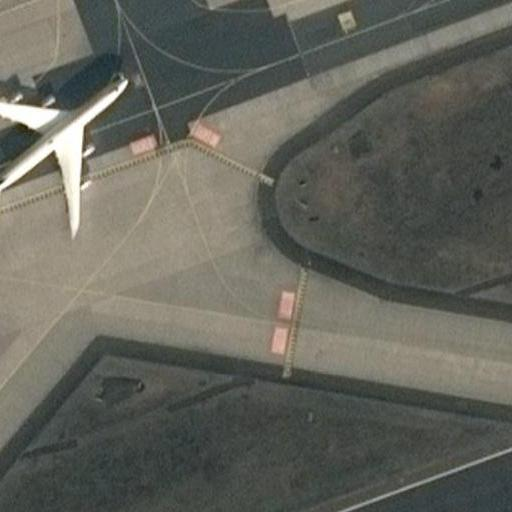Aircraft: (0, 55, 135, 233)
